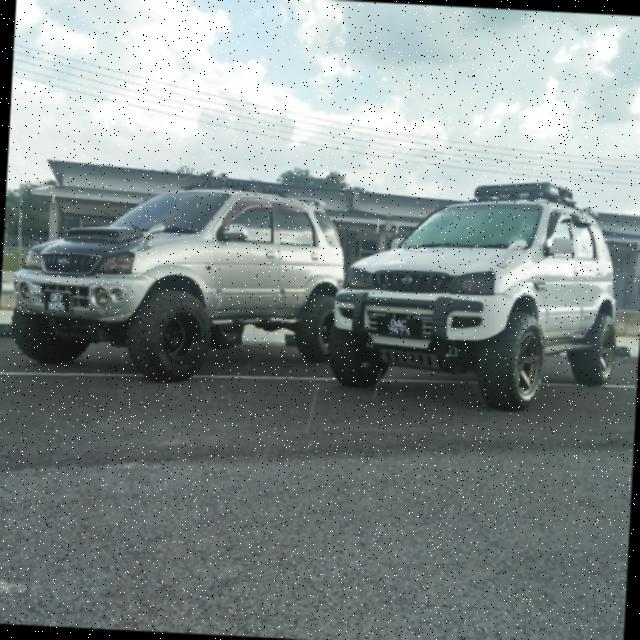License_Plate: (378, 317, 423, 339), (45, 290, 73, 314)
car: (3, 179, 383, 390), (322, 170, 628, 422)
